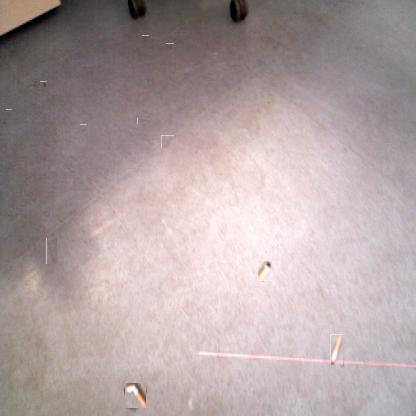dirty: (124, 382, 146, 408), (330, 334, 343, 365), (257, 261, 272, 281)
mark: (46, 238, 57, 264), (161, 135, 174, 148), (140, 116, 150, 127), (79, 124, 87, 133), (0, 119, 7, 126), (40, 81, 47, 88), (167, 43, 174, 50), (266, 100, 272, 108), (142, 35, 149, 41), (6, 109, 12, 116), (33, 82, 39, 88)
